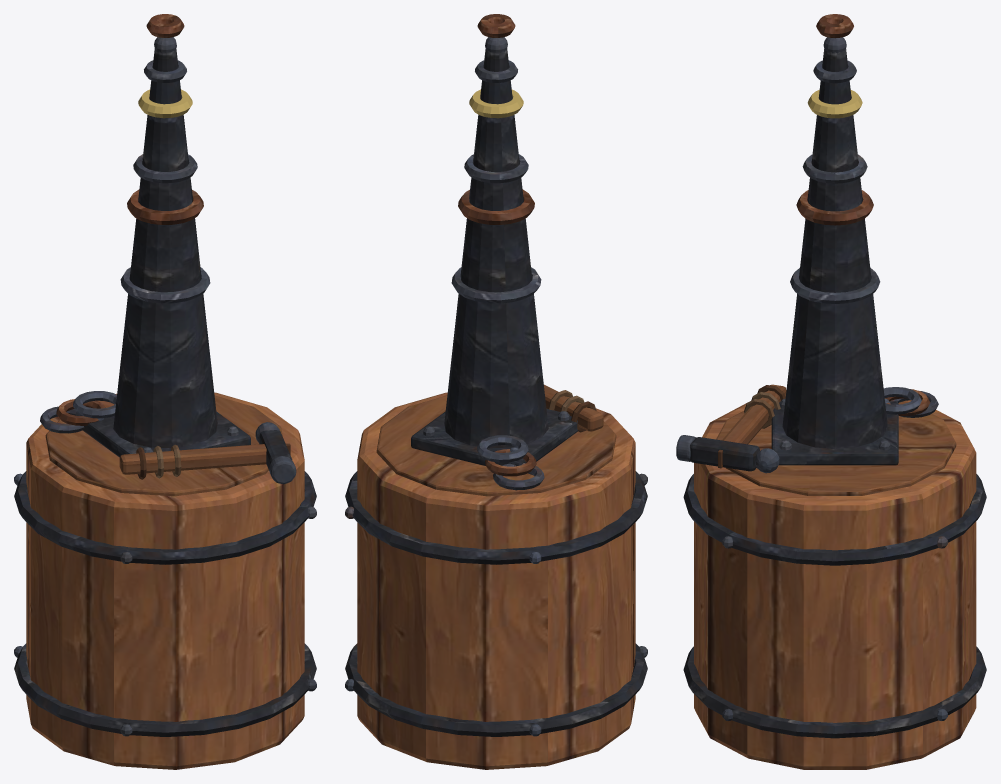
File: ef_ring_mandrel.glb
The picture shows the model from 3 angles, left to right: view 1: azimuth 30°, elevation 25°; view 2: azimuth 150°, elevation 25°; view 3: azimuth 270°, elevation 25°; orthographic projection.
Parts seen in each view (by area): view 1: model; view 2: model; view 3: model.
Boxes of the visible parts, x1,y1,x2,y2 form: model: (14, 14, 316, 769); model: (345, 14, 647, 769); model: (676, 14, 986, 769).
Bounding box in the file's own units: 0.43 × 1.09 × 0.4404.
8 materials, 7 textured.
